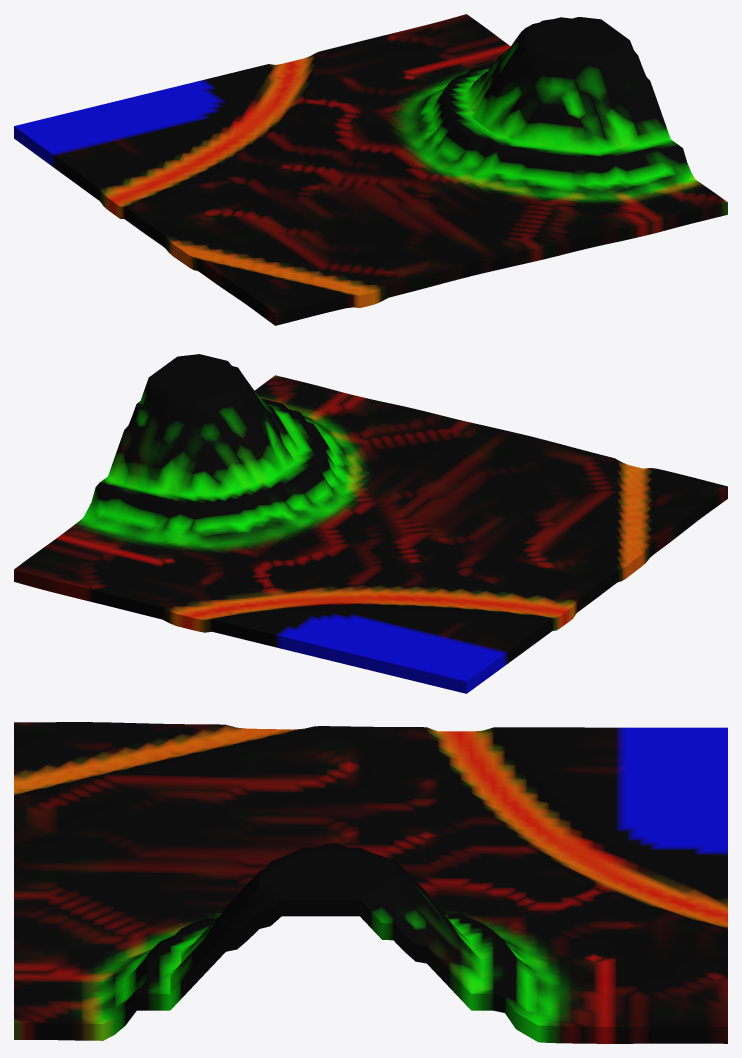
Rendered from Terrain_05_02.fbx.
The picture shows the model from 3 angles, top to bottom: view 1: azimuth 30°, elevation 25°; view 2: azimuth 150°, elevation 25°; view 3: azimuth 270°, elevation 25°; orthographic projection. The views are drawn at different scales.
Visible parts, largest first — view 1: Terrain_05_02_LOD0; view 2: Terrain_05_02_LOD0; view 3: Terrain_05_02_LOD0.
Part boxes in pixels (x1=…): Terrain_05_02_LOD0: x1=14, y1=14, x2=727, y2=325; Terrain_05_02_LOD0: x1=14, y1=354, x2=727, y2=693; Terrain_05_02_LOD0: x1=14, y1=722, x2=727, y2=1043.
Size of what is drawn, in the model's own units: 384 by 89.48 by 384.
